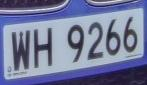2: (85, 16, 106, 65)
6: (104, 15, 123, 62), (121, 14, 139, 59)
9: (64, 19, 87, 69)
H: (30, 23, 58, 75)
W: (9, 26, 34, 74)
